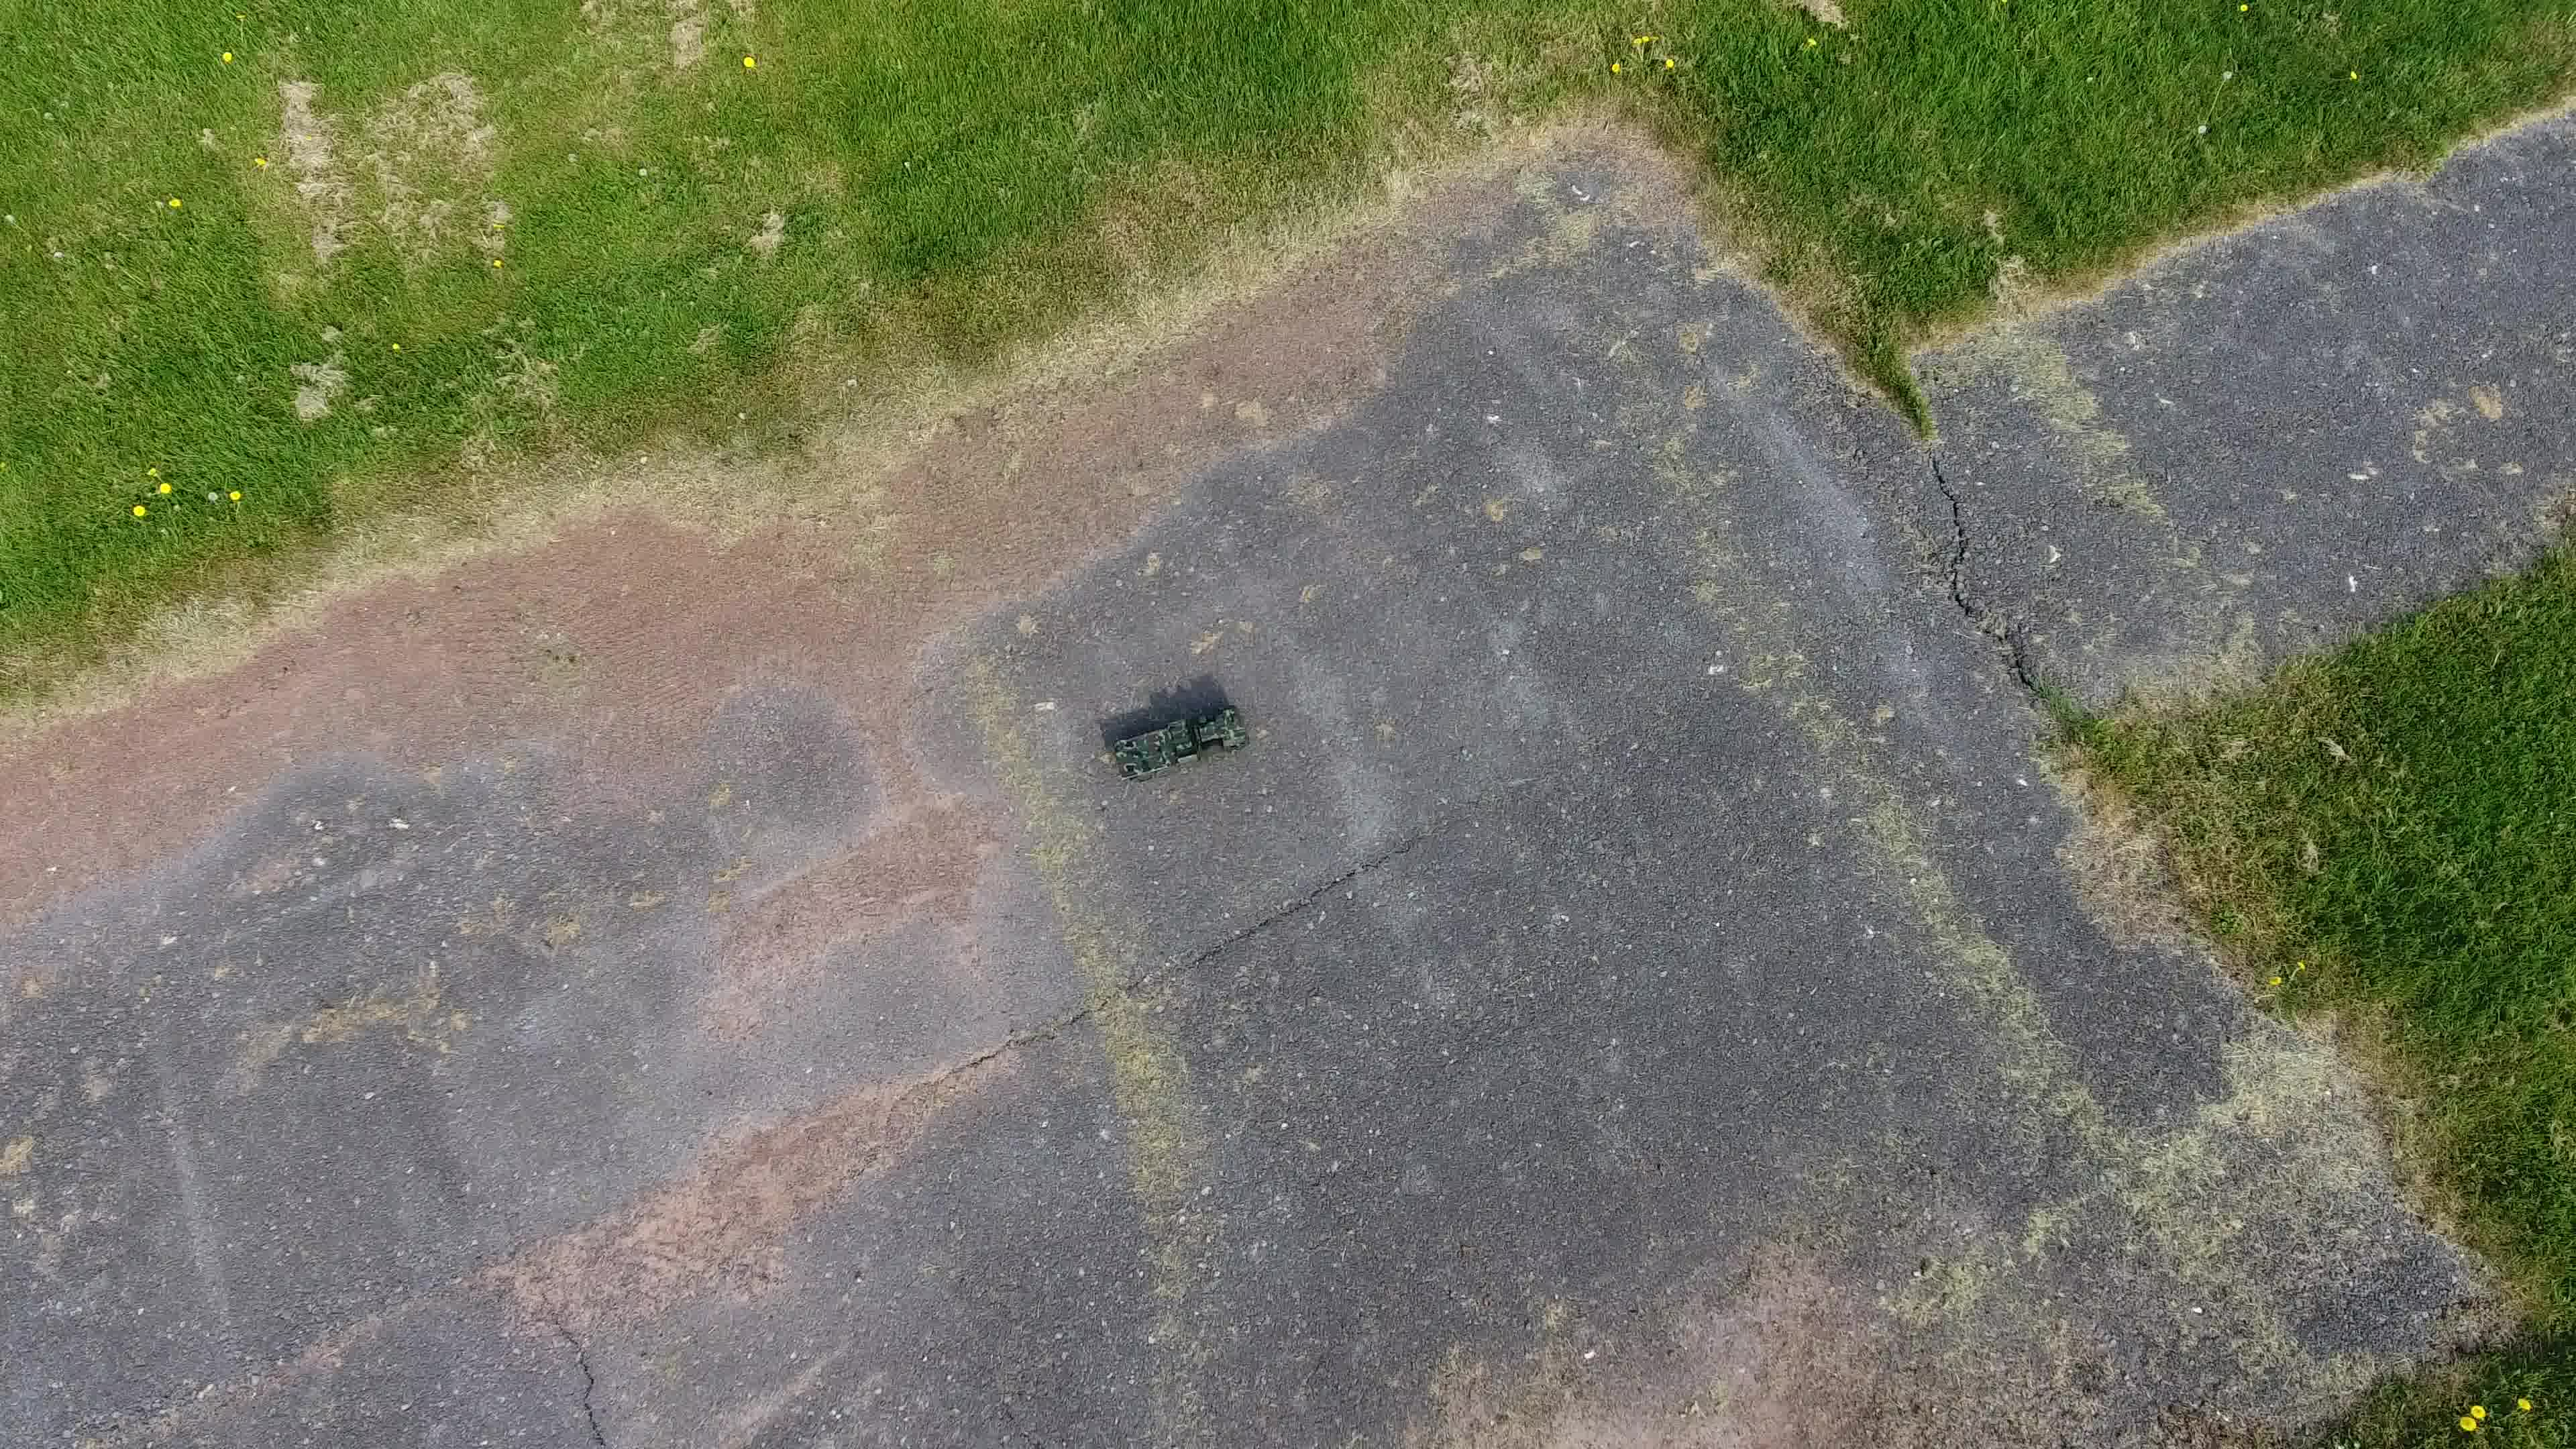transporter9_camo: (1102, 701, 1253, 787)
